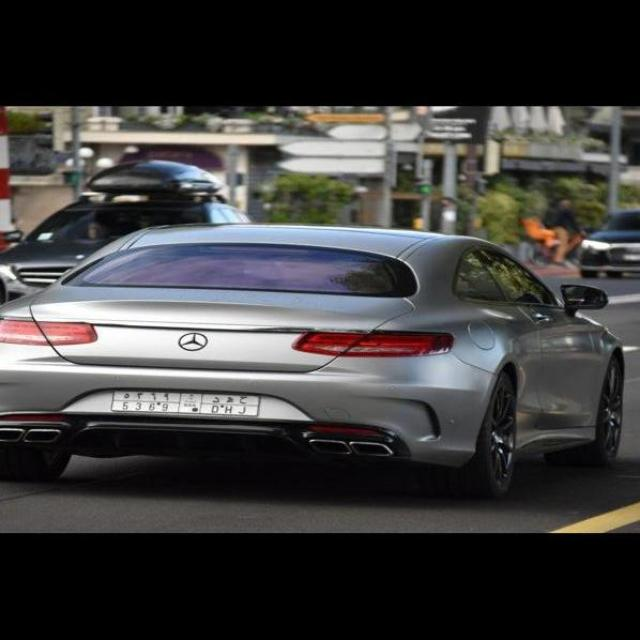license_plate: (110, 389, 262, 418)
